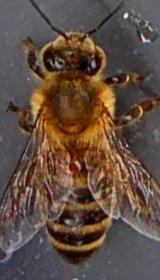varroa_mite: (57, 154, 82, 174)
